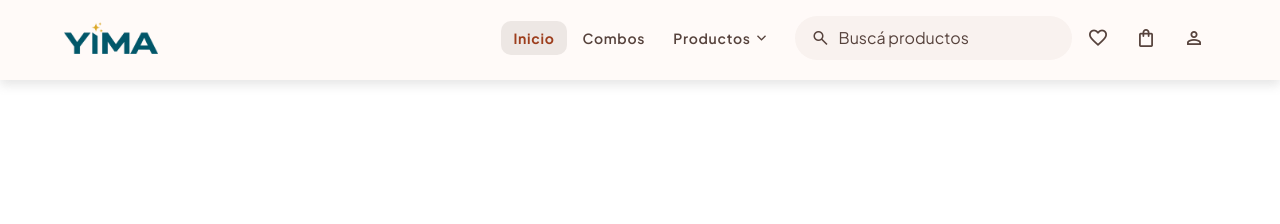
Test case: Navbar - dropdown de categorías › Productos es un botón que abre el panel, no un link
Step 1. Click the button "Productos" → [720, 38], box [661,21,779,55]
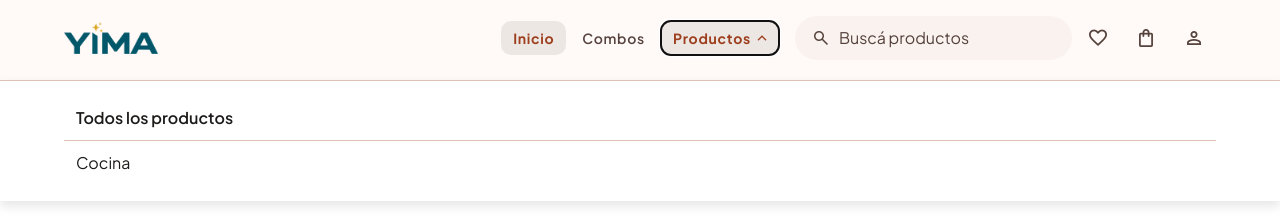
Expected: the button "Productos" is expanded, [661,21,779,55]
Expected: the link "Todos los productos" is shown, [64,97,1216,141]
